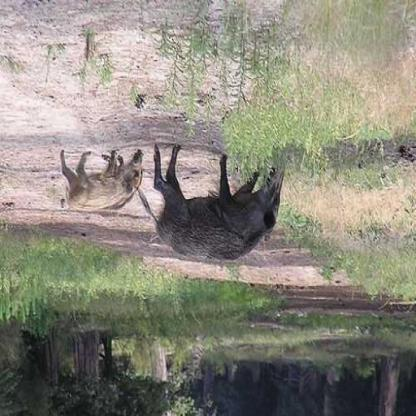boar: (150, 140, 296, 279), (61, 147, 152, 229)
